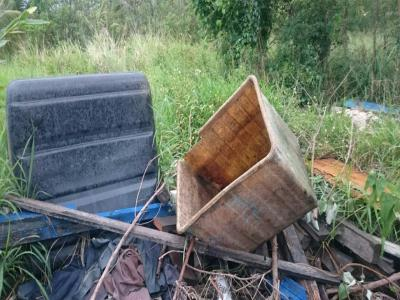box: (172, 73, 322, 259)
plastic_bag: (54, 235, 168, 299)
